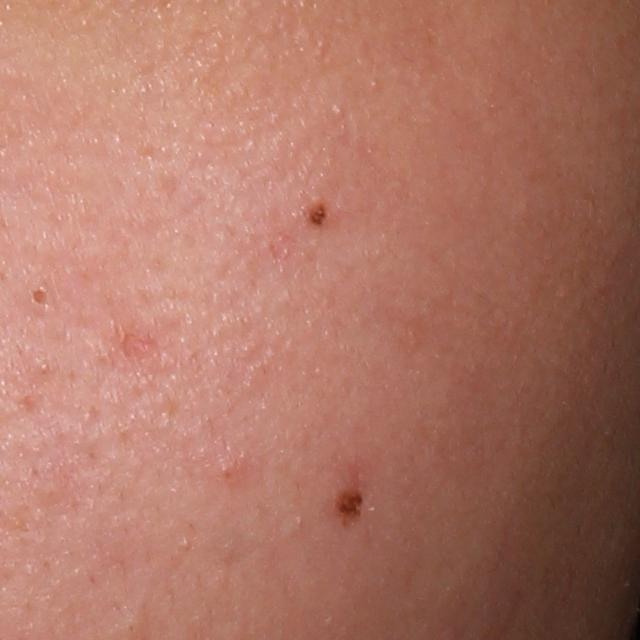comedo: (26, 281, 52, 311), (215, 459, 244, 485), (117, 614, 143, 640)
nevus: (328, 463, 371, 538), (303, 195, 335, 230)
